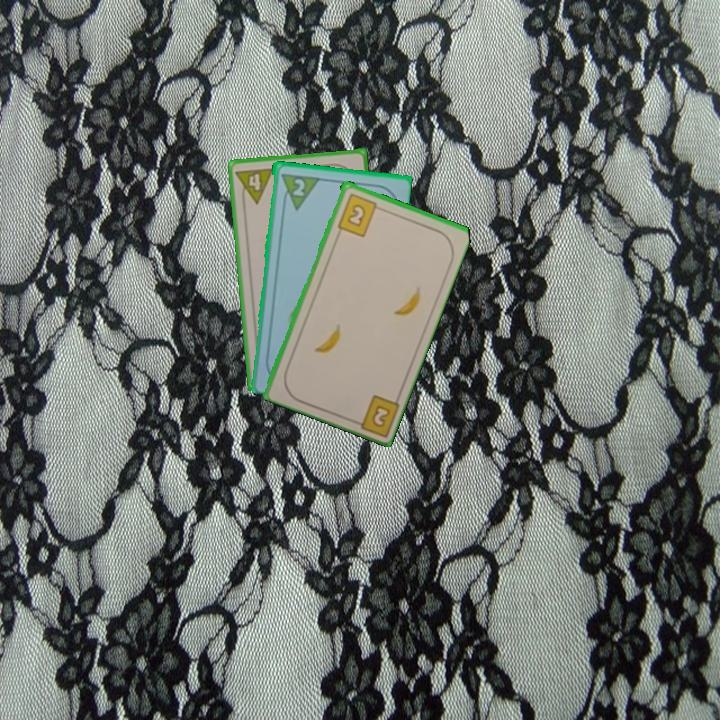2b: (333, 190, 385, 239), (347, 391, 401, 437)
2p: (277, 170, 320, 212)
4p: (232, 164, 277, 207)
